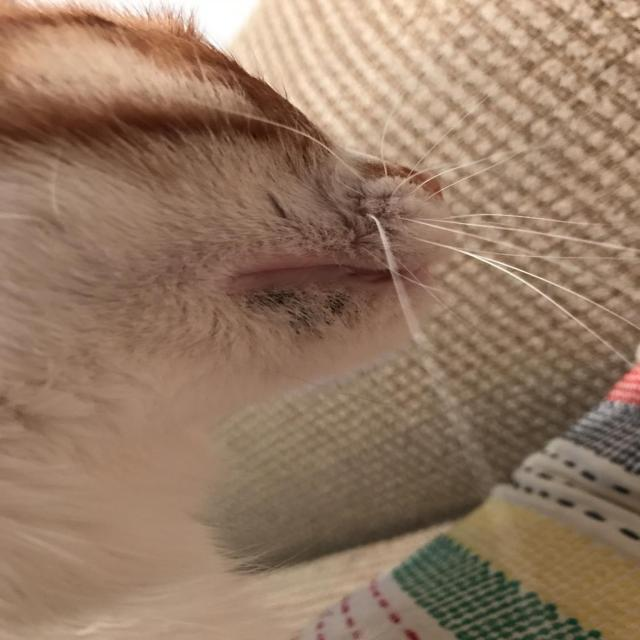cat-acne: (215, 282, 424, 354)
